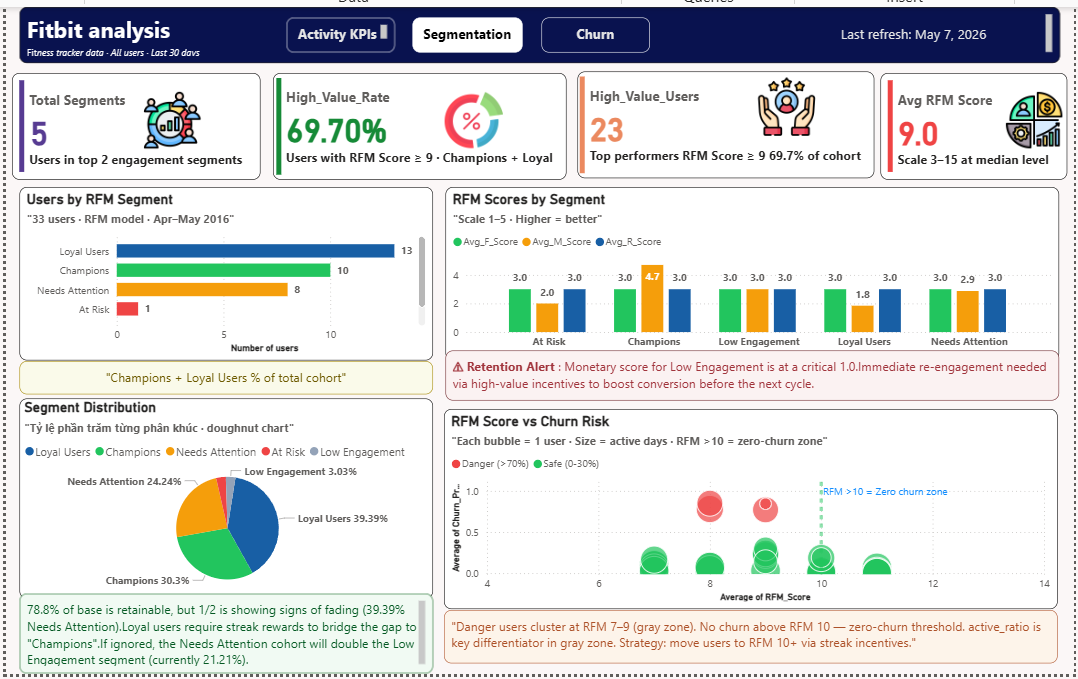

Layout of this report page (visuals, bound fields, positions):
{"tool":"powerbi","page":{"name":"Page 2 : Segmentation","canvas":[1280,800],"ordinal":1},"visuals":[{"type":"group","id":"g1","title":"Group 4","box":[16,0,1248,64],"z":0},{"type":"textbox","box":[16,0,1248,67],"z":0,"group":"g1"},{"type":"textbox","box":[336,13,130,42],"z":1000,"group":"g1"},{"type":"cardVisual","fields":{"Data":["master_dataset.Avg RFM Score"]},"box":[1048.1,78.5,224,128],"z":1000},{"type":"textbox","box":[488,13,132,42],"z":2000,"group":"g1"},{"type":"cardVisual","fields":{"Data":["master_dataset.High Value Rate"]},"box":[320,80,352,128],"z":2000},{"type":"clusteredBarChart","title":"Users by RFM Segment","fields":{"Category":["rfm_results.Segment_Fixed"],"Y":["Count(rfm_results.Id)"]},"box":[16,216,496,208],"z":2000},{"type":"textbox","box":[642,13,130,42],"z":3000,"group":"g1"},{"type":"cardVisual","fields":{"Data":["master_dataset.High Value Users"]},"box":[684.9,78,356,128],"z":3000},{"type":"textbox","box":[16,424,496,40],"z":3000},{"type":"textbox","box":[960,16,256,32],"z":4000,"group":"g1"},{"type":"cardVisual","fields":{"Data":["master_dataset.Total Segments"]},"box":[7.8,79.2,298,128],"z":4000},{"type":"pieChart","title":"Segment Distribution","fields":{"Category":["rfm_results.Segment_Fixed"],"Y":["CountNonNull(rfm_results.Id)"]},"box":[16,470,496,240],"z":4000},{"type":"image","box":[1192.1,94.5,80,80],"z":5000},{"type":"clusteredColumnChart","title":"RFM Scores by Segment","fields":{"Category":["rfm_results.Segment_Fixed"],"Y":["rfm_results.Avg_F_Score","rfm_results.Avg_M_Score","rfm_results.Avg_R_Score"]},"box":[528,216,736,208],"z":5000},{"type":"image","box":[512,96,96,80],"z":6000},{"type":"textbox","box":[528,412,736,60],"z":6000},{"type":"image","box":[151.8,95.2,96,80],"z":7000},{"type":"textbox","box":[16,704,496,96],"z":7000},{"type":"image","box":[896,80,80,80],"z":8000},{"type":"scatterChart","title":"RFM Score vs Churn Risk","fields":{"Y":["Avg(churn_predictions.Churn_Proba)"],"Category":["churn_predictions.Id"],"X":["Avg(churn_predictions.RFM_Score)"],"Size":["Sum(churn_predictions.total_active_days)"],"Series":["churn_predictions.Risk_Tier"]},"box":[525.9,481.4,736,240],"z":8000},{"type":"textbox","box":[525.9,723.4,736,64],"z":9000}]}

Visuals, with their boxes in screenshot pixels (x1, y1, x2, y2):
"Group 4" group: BBox(19, 3, 1055, 56)
textbox: BBox(19, 3, 1055, 58)
textbox: BBox(285, 14, 393, 48)
cardVisual - master_dataset.Avg RFM Score: BBox(876, 68, 1062, 174)
textbox: BBox(411, 14, 521, 48)
cardVisual - master_dataset.High Value Rate: BBox(271, 69, 564, 176)
"Users by RFM Segment" clusteredBarChart: BBox(19, 182, 431, 355)
textbox: BBox(539, 14, 647, 48)
cardVisual - master_dataset.High Value Users: BBox(574, 68, 870, 174)
textbox: BBox(19, 355, 431, 388)
textbox: BBox(803, 16, 1016, 43)
cardVisual - master_dataset.Total Segments: BBox(12, 69, 260, 175)
"Segment Distribution" pieChart: BBox(19, 393, 431, 592)
image: BBox(996, 81, 1062, 148)
"RFM Scores by Segment" clusteredColumnChart: BBox(444, 182, 1055, 355)
image: BBox(431, 83, 511, 149)
textbox: BBox(444, 345, 1055, 395)
image: BBox(132, 82, 211, 148)
textbox: BBox(19, 588, 431, 667)
image: BBox(750, 69, 816, 136)
"RFM Score vs Churn Risk" scatterChart: BBox(442, 403, 1054, 602)
textbox: BBox(442, 604, 1054, 657)
